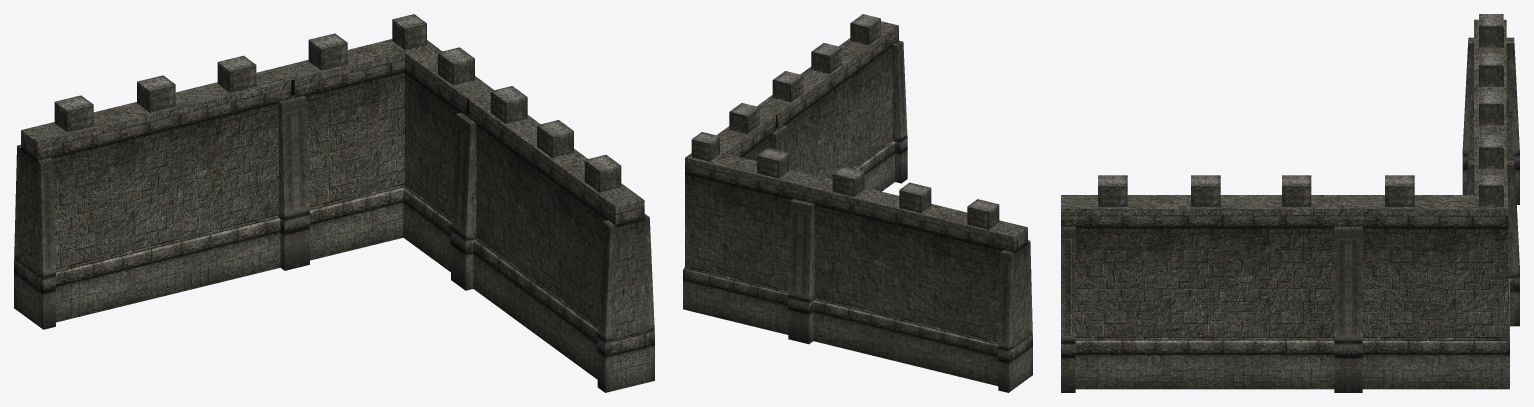
Rendered from ep-bigdam-05.fbx.
3 views of the same model, side by side, from view 1: azimuth 30°, elevation 25°; view 2: azimuth 150°, elevation 25°; view 3: azimuth 270°, elevation 25° (orthographic). The views are drawn at different scales.
Visible parts, largest first — view 1: ep-bigdam-05; view 2: ep-bigdam-05; view 3: ep-bigdam-05.
Boxes of the visible parts, box(x1,y1,x2,y2) form: ep-bigdam-05: box(14, 14, 654, 392); ep-bigdam-05: box(683, 14, 1032, 392); ep-bigdam-05: box(1061, 14, 1519, 392).
Size of the model in its own units: 16 by 7.71 by 16.
